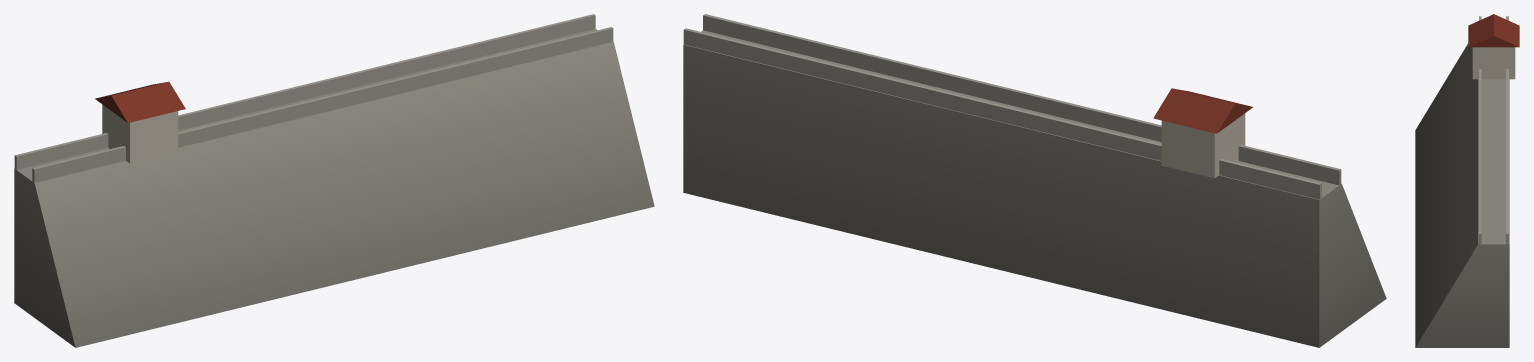
File: barragem.glb
The picture shows the model from 3 angles, left to right: view 1: azimuth 30°, elevation 25°; view 2: azimuth 150°, elevation 25°; view 3: azimuth 270°, elevation 25°; orthographic projection. The views are drawn at different scales.
Parts seen in each view (by area): view 1: barragem_liso; view 2: barragem_liso; view 3: barragem_liso.
Boxes of the visible parts, x1,y1,x2,y2 form: barragem_liso: (14,14,654,347); barragem_liso: (683,14,1386,347); barragem_liso: (1415,14,1519,347).
Size of the model in its own units: 36 by 11.5 by 7.3.
